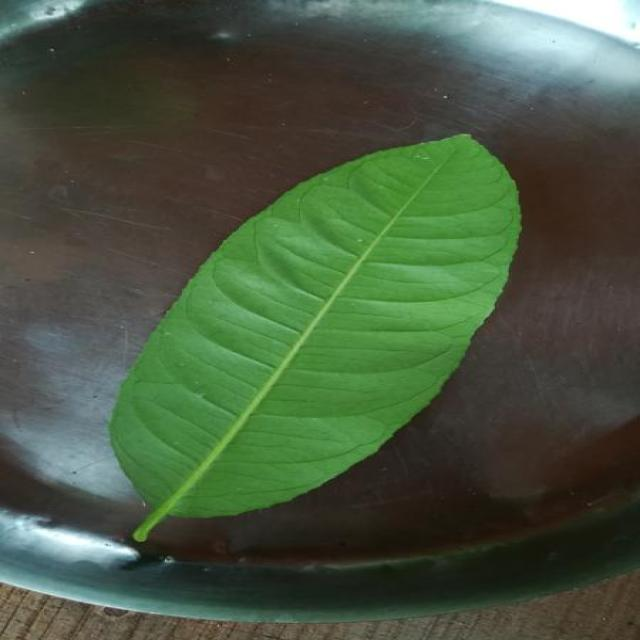badipala: (110, 135, 520, 541)
